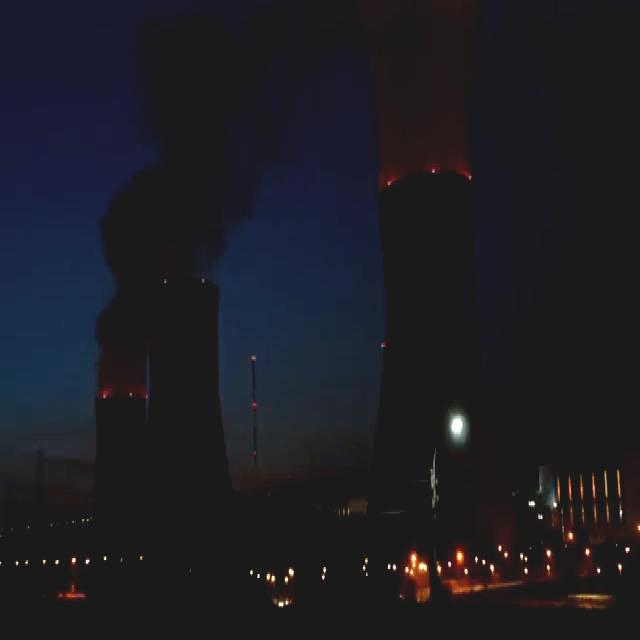smoke: (97, 30, 260, 384), (376, 0, 465, 174)
